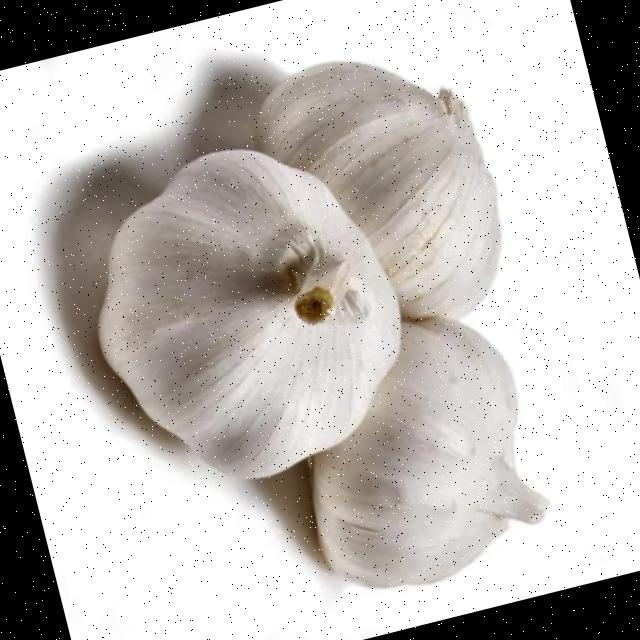garlic: (98, 150, 399, 477), (255, 62, 499, 319), (312, 319, 546, 586)
